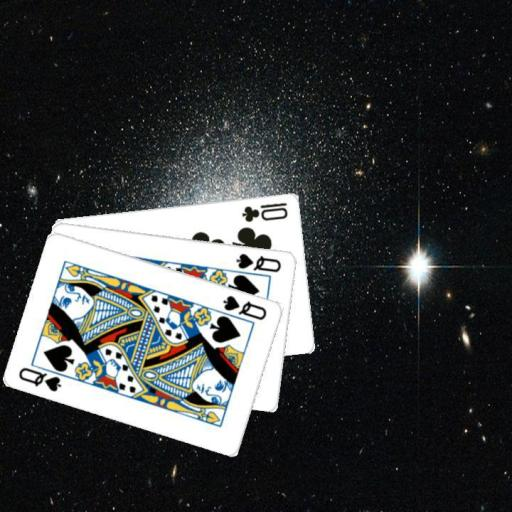10C: (239, 199, 289, 224)
QS: (220, 292, 269, 322), (16, 364, 63, 393), (233, 250, 283, 273)
